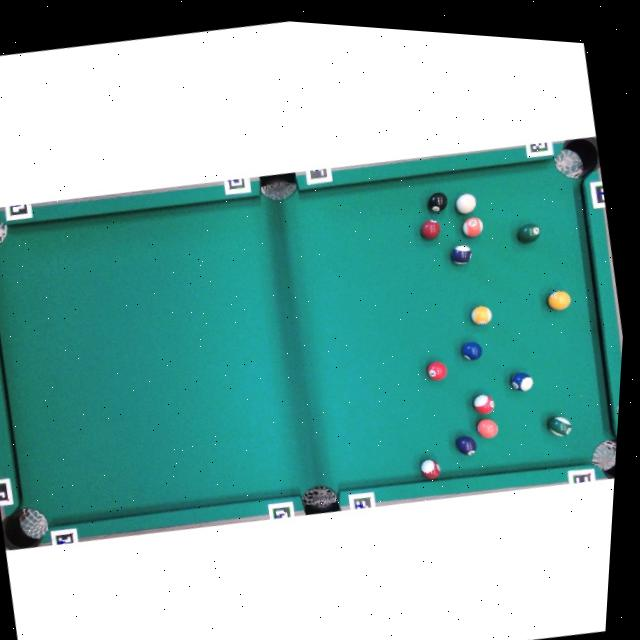cue ball: (454, 191, 479, 217)
other: (547, 413, 574, 440), (515, 221, 543, 246), (475, 416, 501, 442), (510, 370, 536, 395), (547, 288, 573, 313), (460, 215, 486, 240), (448, 242, 474, 267), (472, 392, 497, 417), (419, 217, 443, 242), (460, 339, 485, 363), (454, 433, 478, 458), (425, 190, 450, 214), (470, 303, 494, 327), (419, 457, 442, 482), (426, 359, 449, 383)
